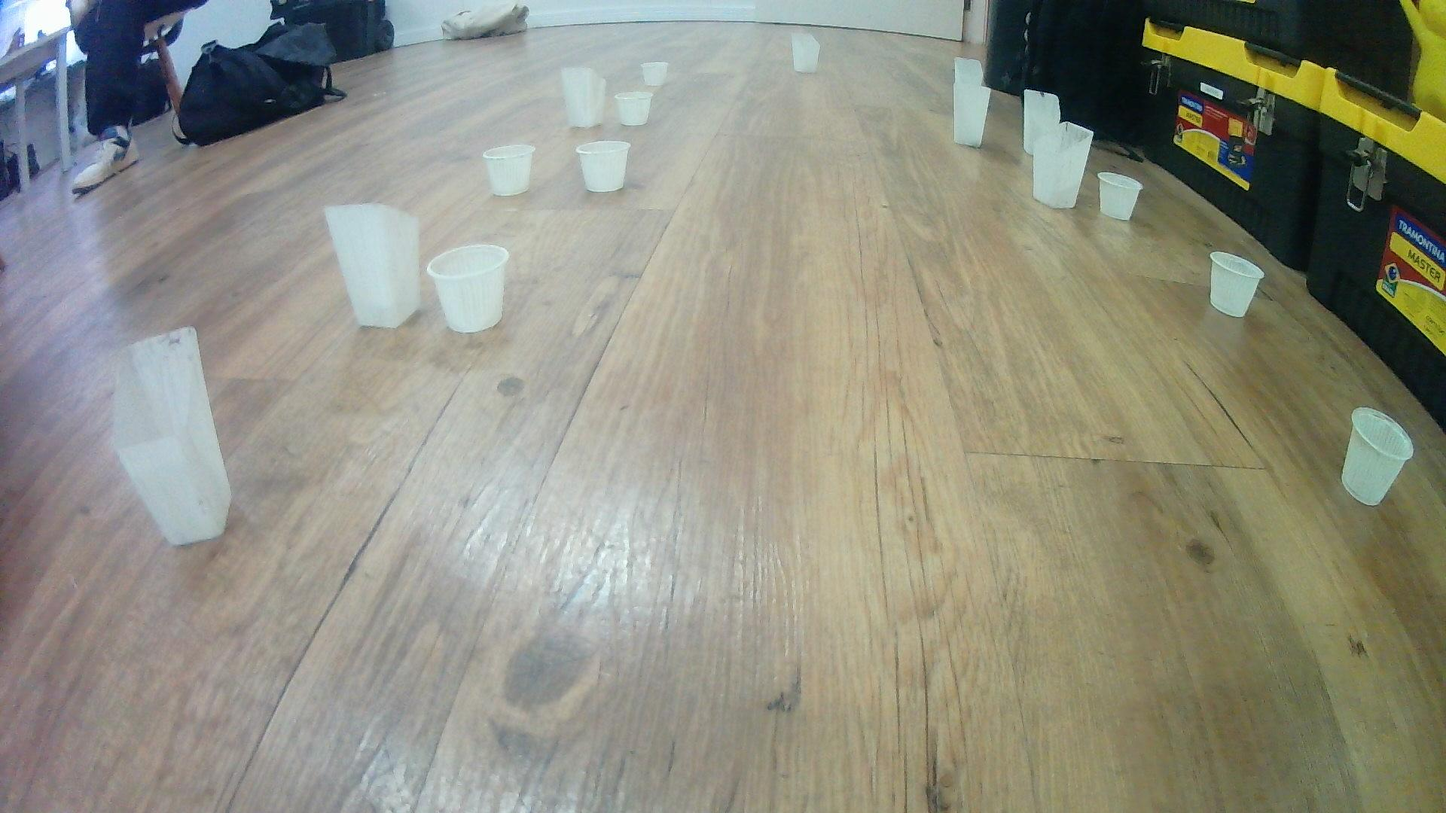erva_daninha: (108, 325, 233, 549), (322, 202, 422, 330), (1032, 120, 1095, 211), (953, 57, 993, 149), (560, 66, 608, 129), (1021, 88, 1061, 156), (791, 30, 821, 75)
planta: (1340, 406, 1415, 507), (427, 244, 510, 334), (1209, 251, 1266, 319), (575, 139, 630, 194), (482, 145, 535, 197), (1096, 172, 1144, 222), (613, 91, 652, 127), (641, 62, 669, 87)
